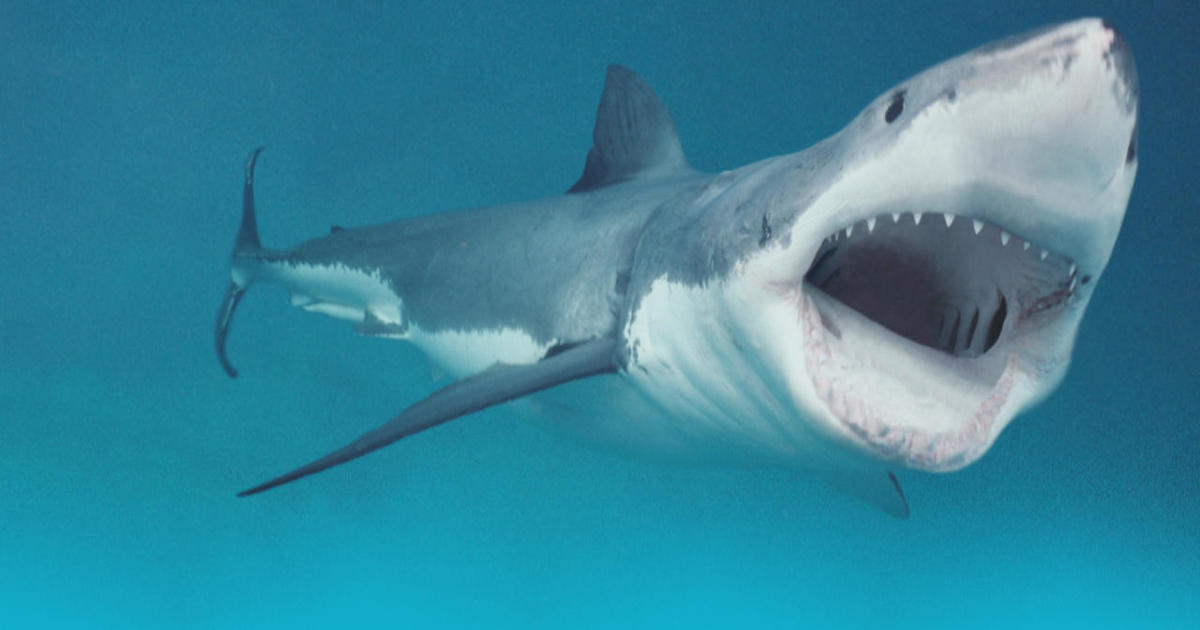shark: (190, 14, 1147, 521)
